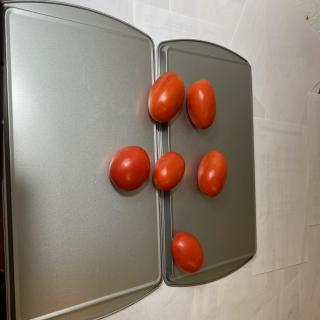Tomato: (109, 146, 151, 192), (148, 71, 185, 123), (186, 78, 216, 130), (198, 150, 228, 197), (170, 232, 203, 274), (152, 151, 185, 191)
